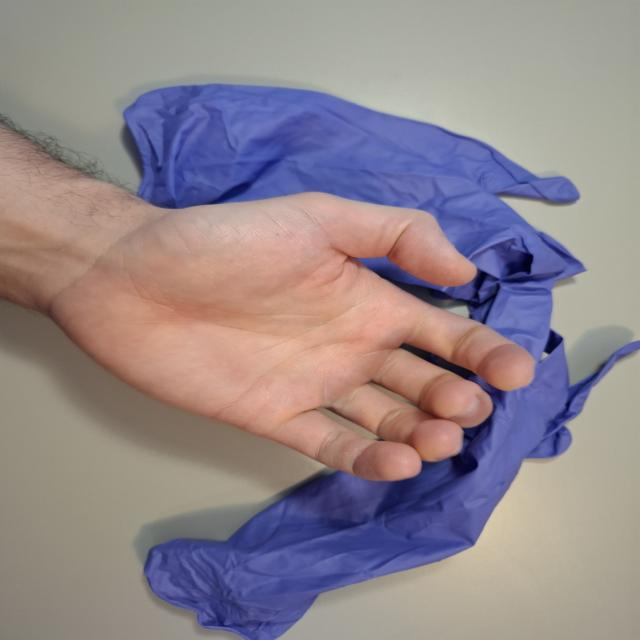glove_off: (26, 187, 541, 486)
